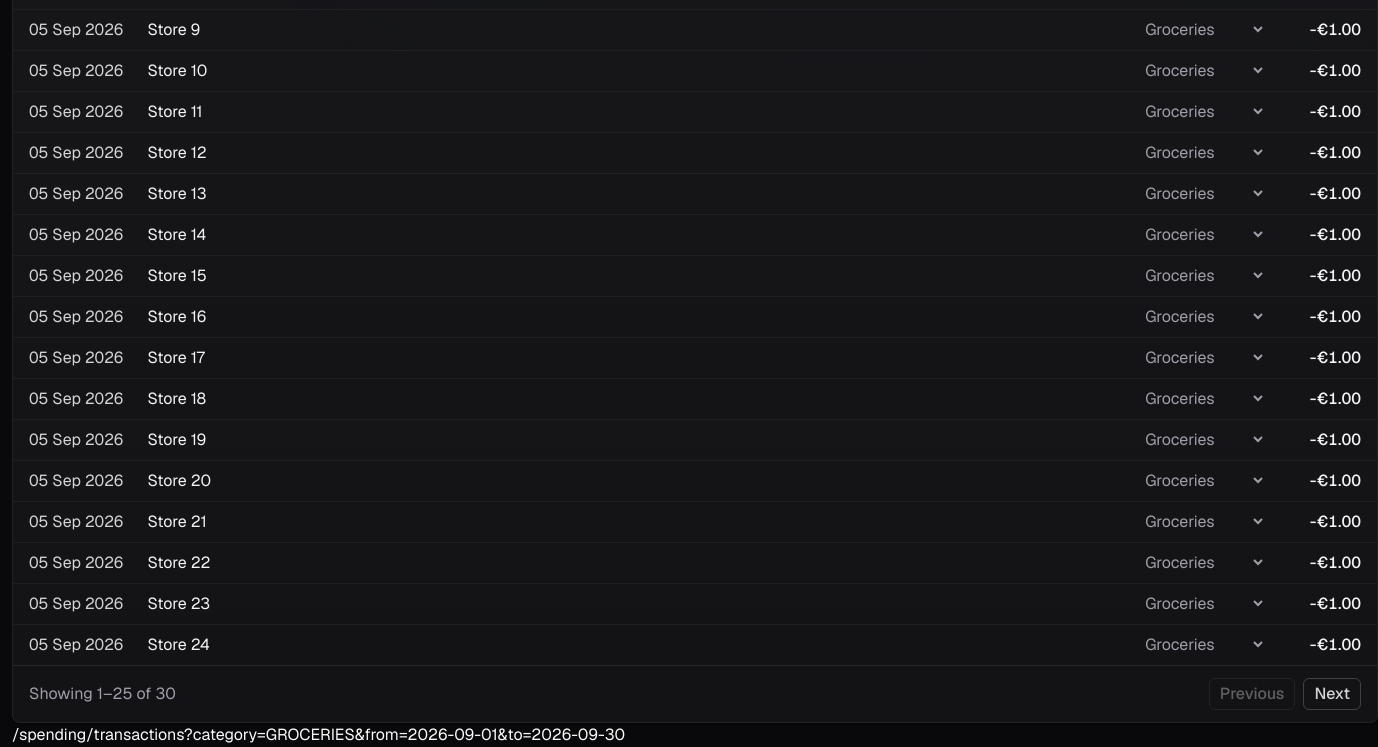
it: SpendingTransactions › pages through long lists
(page scrolled)
Expected: the text "Showing 1–25 of 30" is shown, [29,682,176,706]
Click the button with aria-label "Next page" at coordinates (1332, 694), box [1303,678,1361,710]
(page scrolled)
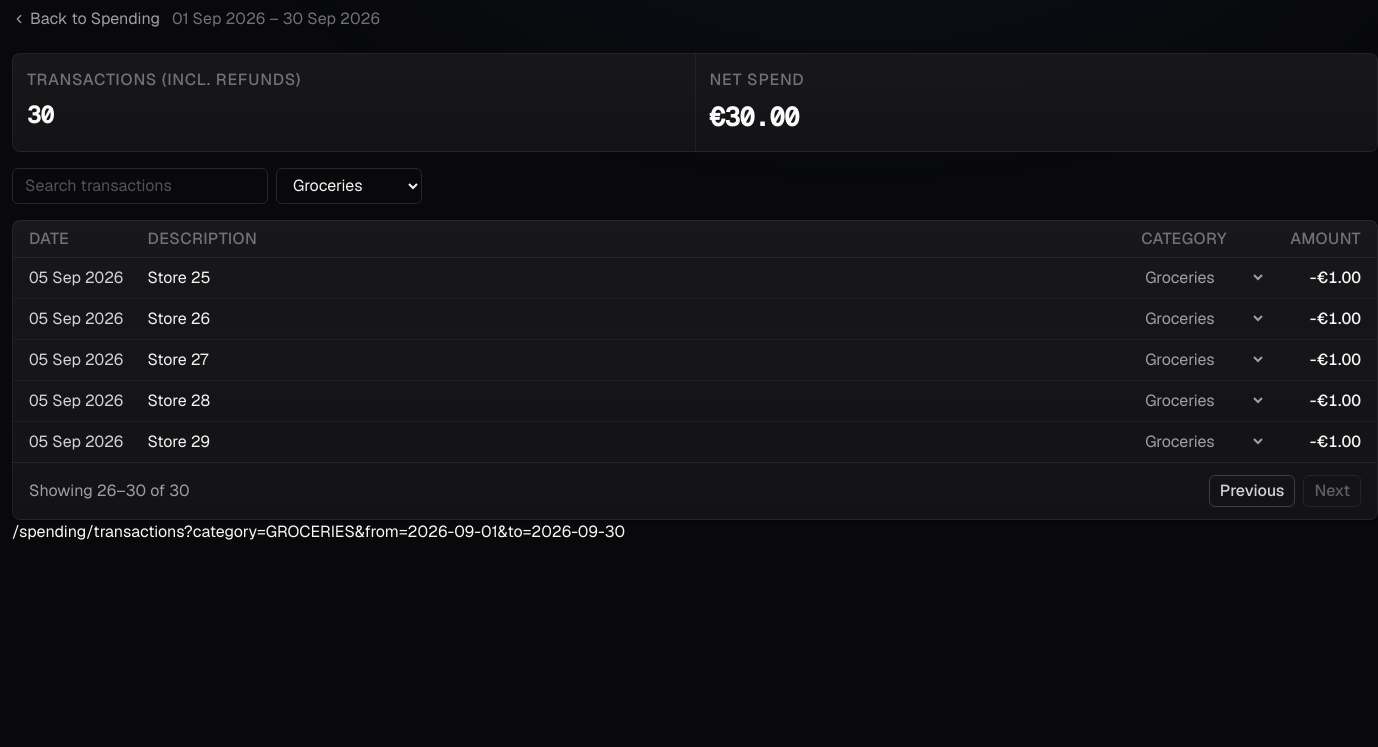
Expected: the text "Showing 26–30 of 30" is shown, [29,479,190,503]
